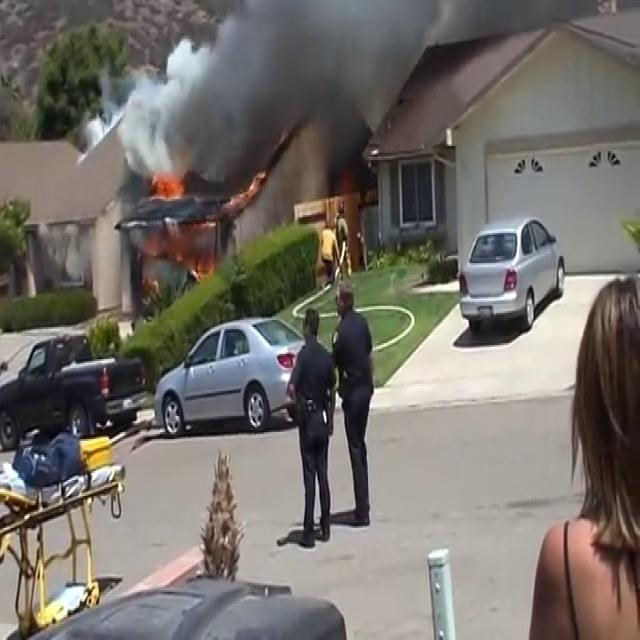Smoke: (118, 0, 376, 210)
